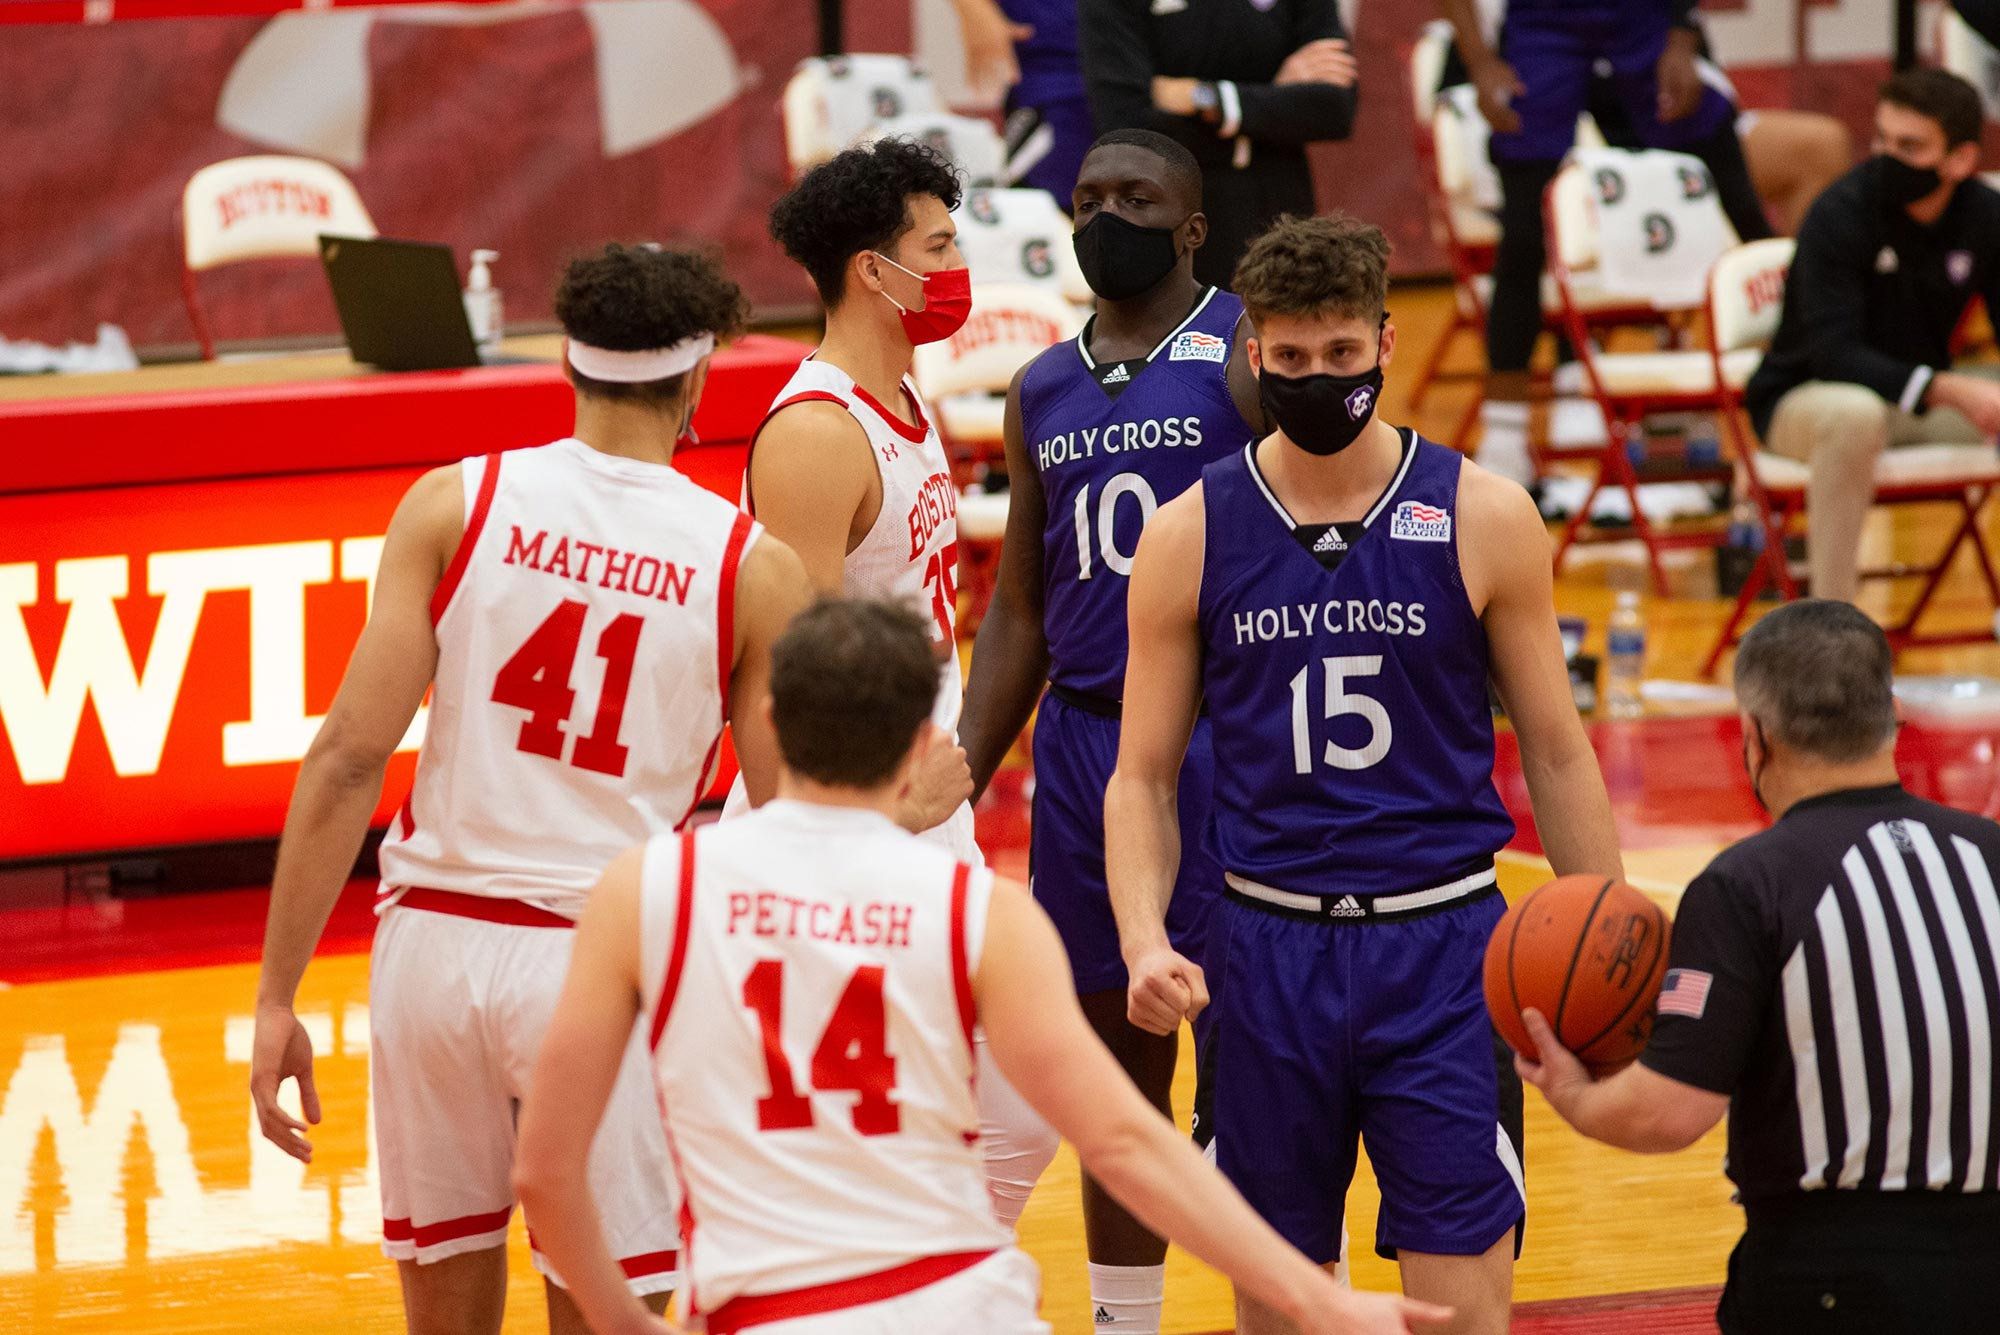with_mask: (1065, 142, 1200, 314), (837, 190, 984, 349), (1263, 295, 1371, 461)
